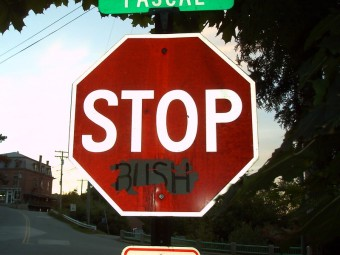SS: (69, 26, 263, 222)
